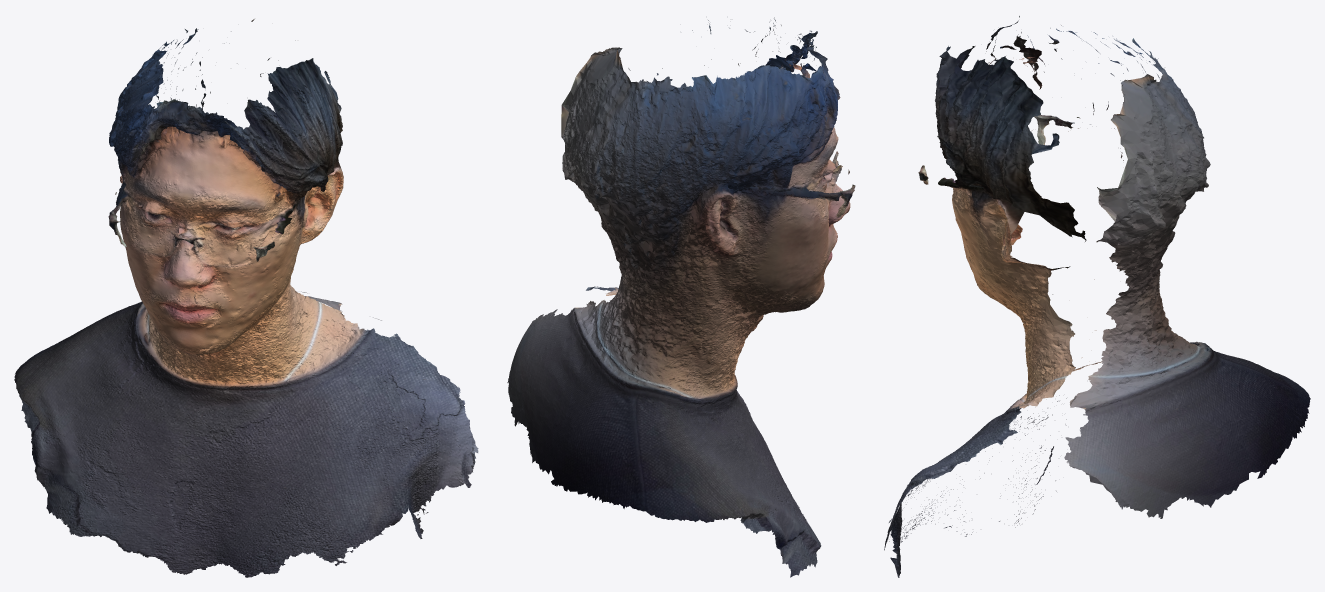
The model's file is 261019_jw2_web.glb.
3 views of the same model, side by side, from view 1: azimuth 30°, elevation 25°; view 2: azimuth 150°, elevation 25°; view 3: azimuth 270°, elevation 25° (orthographic). The views are drawn at different scales.
Parts seen in each view (by area): view 1: Mesh_0_Part_0; view 2: Mesh_0_Part_0; view 3: Mesh_0_Part_0.
Boxes of the visible parts, x1,y1,x2,y2 form: Mesh_0_Part_0: (14,19,478,577); Mesh_0_Part_0: (507,17,855,577); Mesh_0_Part_0: (884,16,1310,577).
Size of the model in its own units: 30.41 by 46.57 by 35.35.
Materials: 1 (1 with a texture image).
